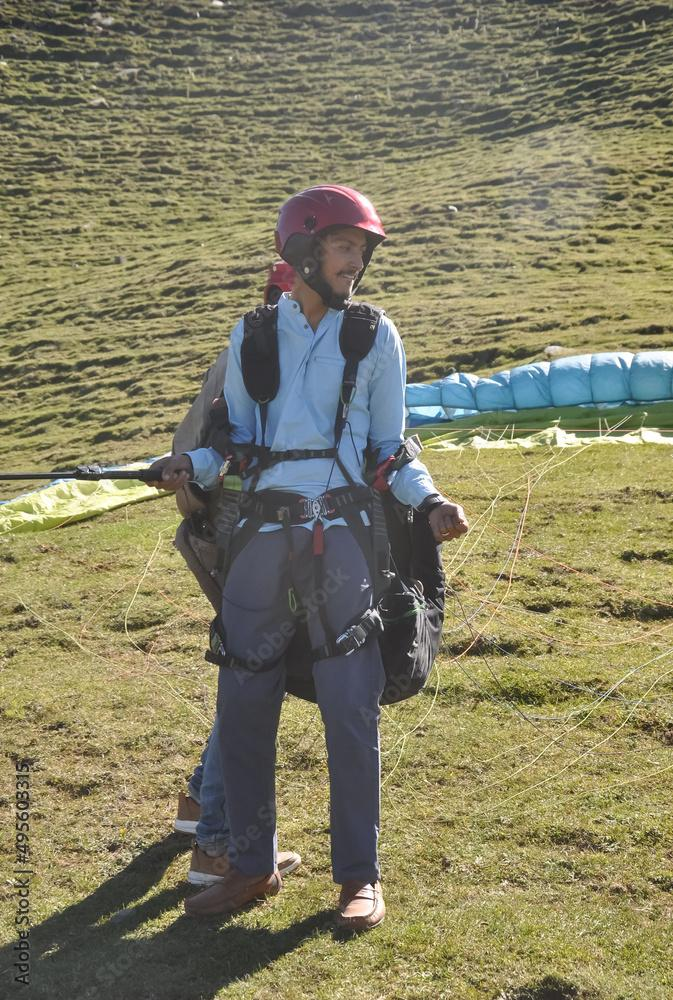Human: (134, 144, 479, 954)
